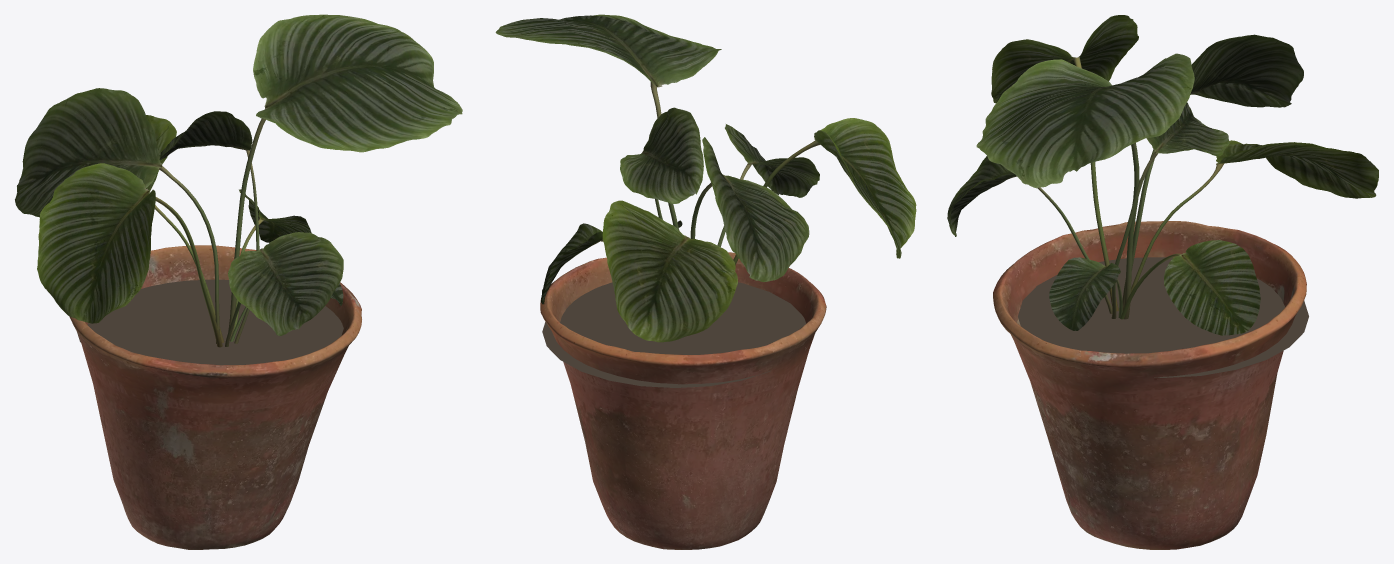
File: plant_calathea_pot.glb
3 views of the same model, side by side, from view 1: azimuth 30°, elevation 25°; view 2: azimuth 150°, elevation 25°; view 3: azimuth 270°, elevation 25° (orthographic). The views are drawn at different scales.
Parts seen in each view (by area): view 1: calathea_orbifolia_01_a, planter_pot_clay, soil; view 2: calathea_orbifolia_01_a, planter_pot_clay, soil; view 3: planter_pot_clay, calathea_orbifolia_01_a, soil.
Boxes of the visible parts, x1,y1,x2,y2 form: calathea_orbifolia_01_a: (15, 14, 462, 347); planter_pot_clay: (69, 245, 361, 549); soil: (77, 279, 343, 365); calathea_orbifolia_01_a: (495, 14, 916, 342); planter_pot_clay: (540, 252, 826, 549); soil: (542, 282, 805, 387); planter_pot_clay: (993, 221, 1306, 549); calathea_orbifolia_01_a: (947, 15, 1378, 335); soil: (1018, 257, 1308, 377).
Size of the model in its own units: 0.6006 by 0.6804 by 0.5257.
3 materials, 2 textured.
